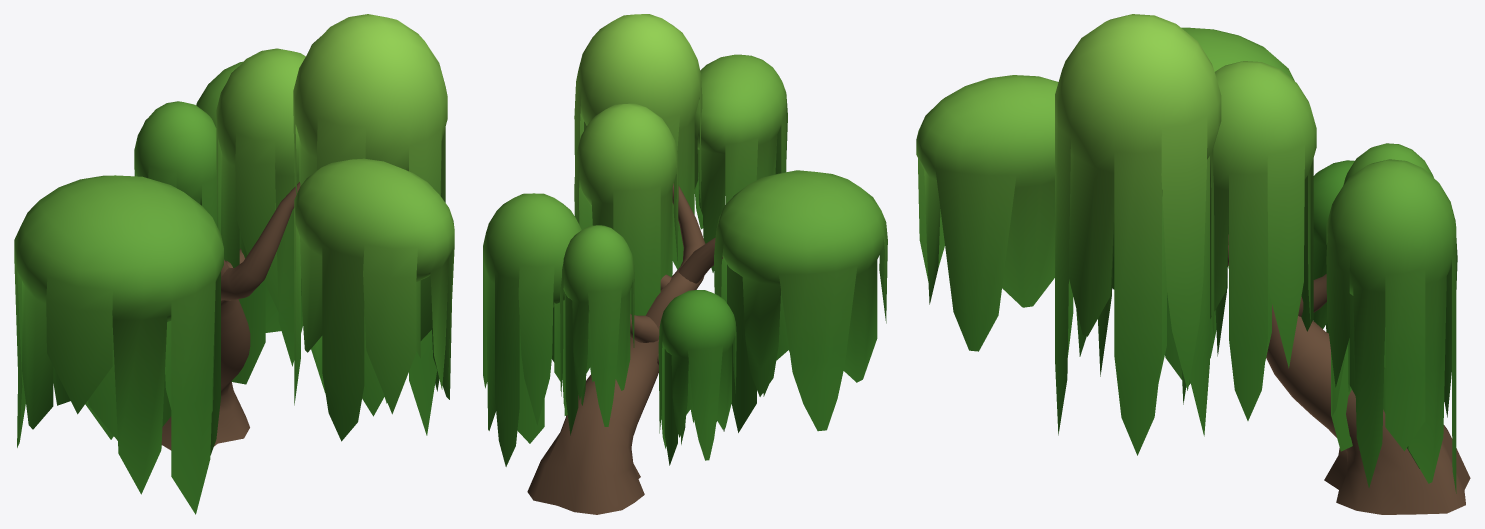
File: PF_willow_1-convcol.glb
The picture shows the model from 3 angles, left to right: view 1: azimuth 30°, elevation 25°; view 2: azimuth 150°, elevation 25°; view 3: azimuth 270°, elevation 25°; orthographic projection. The views are drawn at different scales.
Visible parts, largest first — view 1: PF_willow_1-convcol; view 2: PF_willow_1-convcol; view 3: PF_willow_1-convcol.
Part boxes in pixels (left/top/right/bottom): PF_willow_1-convcol: left=14, top=14, right=454, bottom=514; PF_willow_1-convcol: left=483, top=14, right=887, bottom=514; PF_willow_1-convcol: left=916, top=14, right=1470, bottom=514.
Size of the model in its own units: 6.35 by 7.56 by 7.64.
Materials: 1 (1 with a texture image).
